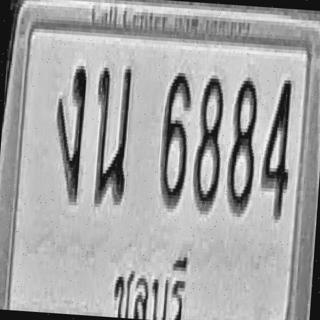A07: (50, 61, 88, 202)
A25: (90, 62, 132, 207)
N04: (258, 75, 295, 220)
N06: (157, 68, 193, 206)
N08: (224, 73, 260, 214), (191, 70, 226, 212)
P13: (110, 236, 194, 320)
